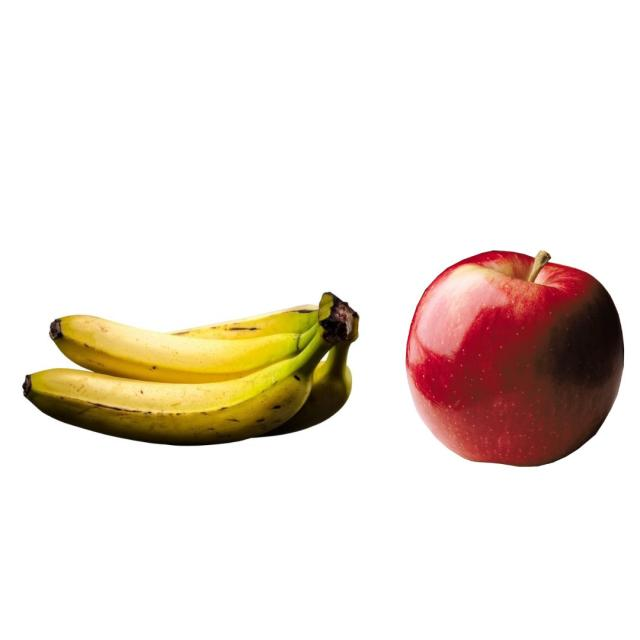Apel: (404, 248, 624, 467)
Pisang: (22, 290, 360, 445)
